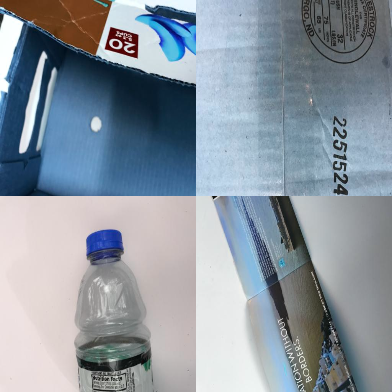cardboard: (196, 1, 391, 195), (1, 1, 195, 195)
paper: (211, 195, 359, 392)
plastic: (74, 229, 155, 390)
